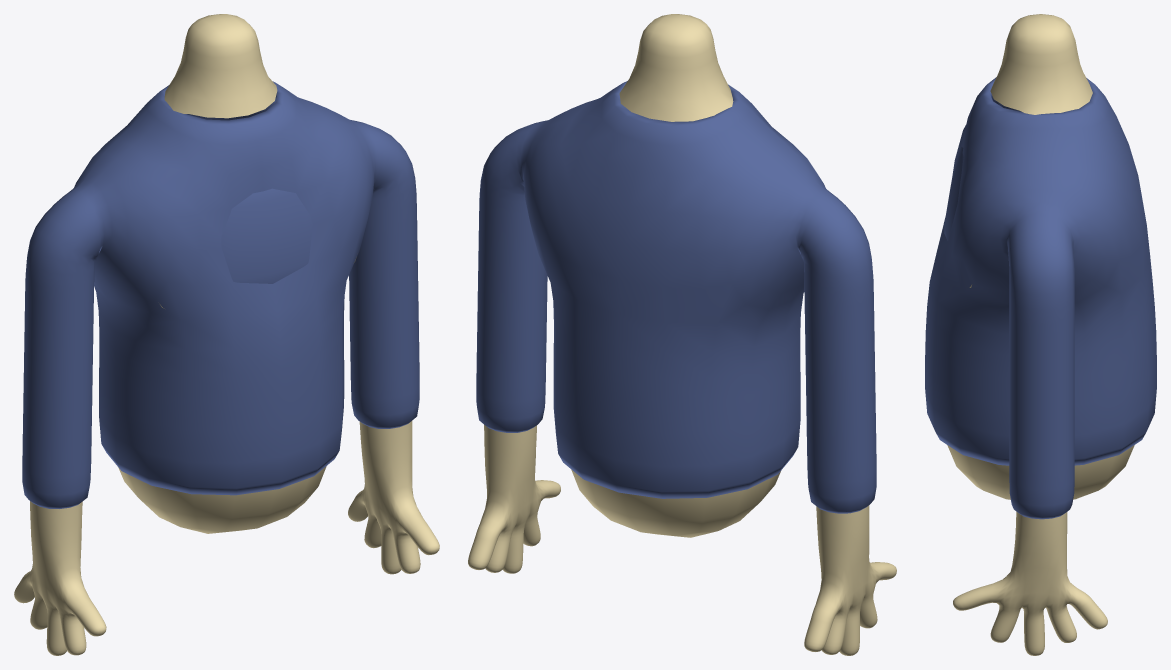
Rendered from cpr-doll-chest-animation.fbx.
The picture shows the model from 3 angles, left to right: view 1: azimuth 30°, elevation 25°; view 2: azimuth 150°, elevation 25°; view 3: azimuth 270°, elevation 25°; orthographic projection. The views are drawn at different scales.
Visible parts, largest first — view 1: Jumper, Torso, Chest Piece; view 2: Jumper, Torso; view 3: Jumper, Torso, Chest Piece.
Part boxes in pixels (x1=…): Jumper: x1=22, y1=81, x2=419, y2=508; Torso: x1=14, y1=14, x2=439, y2=655; Chest Piece: x1=221, y1=188, x2=312, y2=283; Jumper: x1=476, y1=81, x2=876, y2=513; Torso: x1=468, y1=14, x2=896, y2=655; Jumper: x1=925, y1=77, x2=1156, y2=519; Torso: x1=947, y1=14, x2=1134, y2=655; Chest Piece: x1=944, y1=146, x2=963, y2=240.
Size of the model in its own units: 79.1 by 115 by 43.34.
